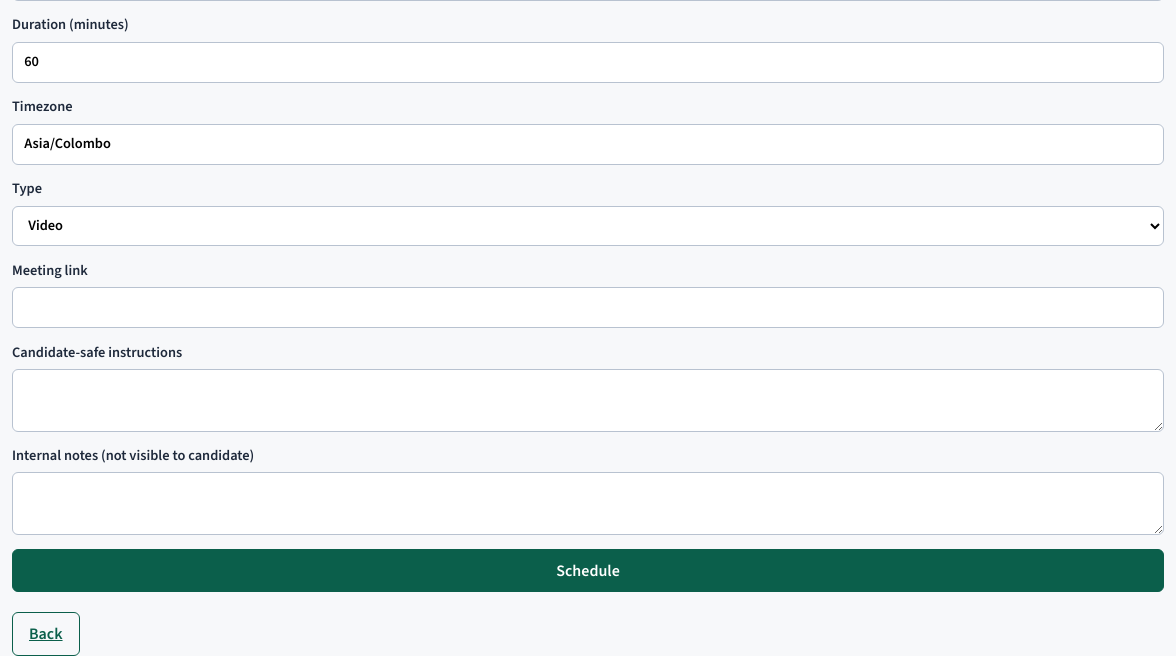
Test: Phase 5.2 recruiter UI › validates interview schedule form
(page scrolled)
Click the button "Schedule": (588, 571) [12,549,1164,592]
(page scrolled)
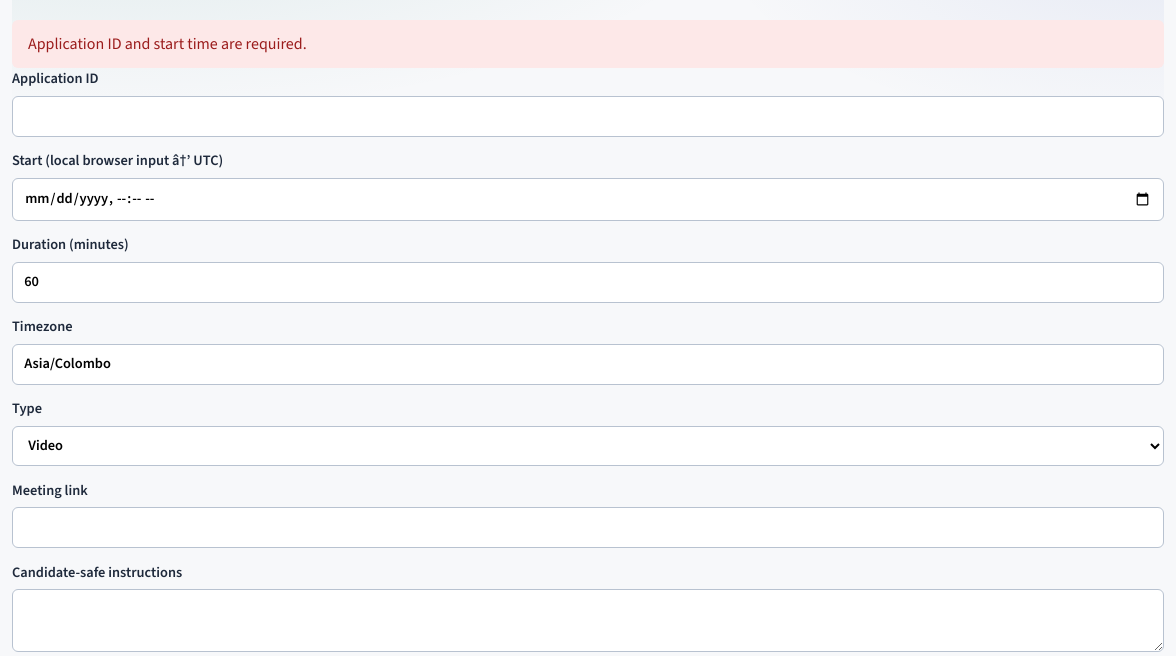
Expected: the text "Application ID and start time are required." is shown, [12,20,1164,68]
